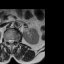CCS_normal: (10, 37, 12, 45)
LFS_stenosis: (14, 38, 15, 43)
LLS_normal: (12, 38, 13, 44)
RFS_normal: (6, 38, 8, 43)
RLS_normal: (8, 38, 10, 44)
